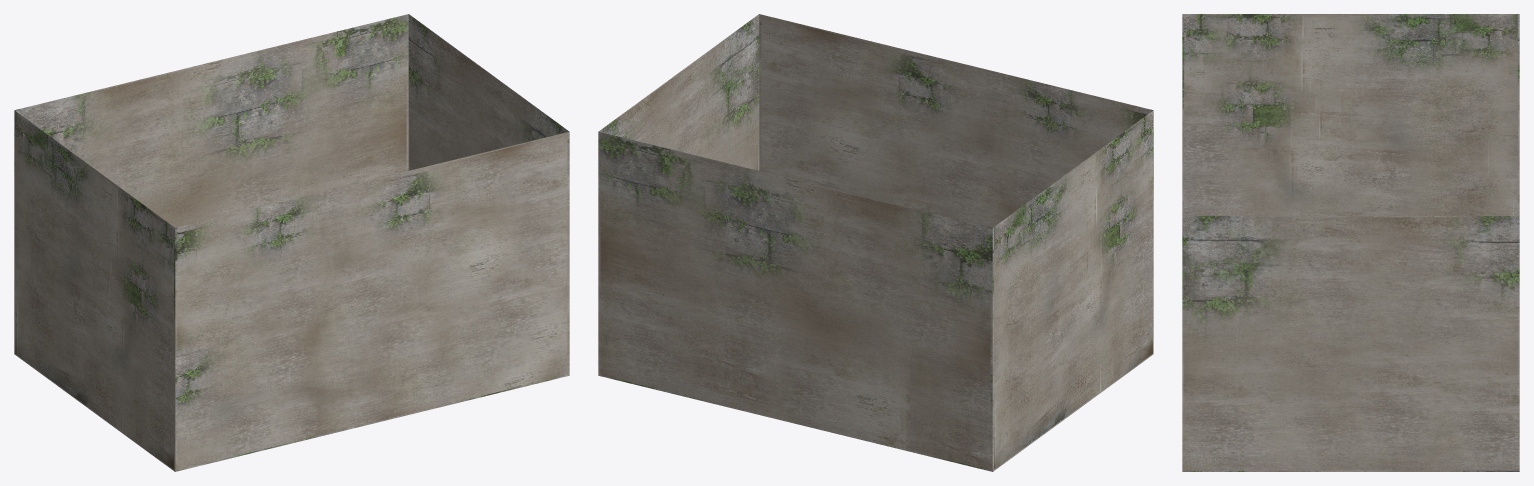
The model's file is oldHouse1.glb.
The picture shows the model from 3 angles, left to right: view 1: azimuth 30°, elevation 25°; view 2: azimuth 150°, elevation 25°; view 3: azimuth 270°, elevation 25°; orthographic projection. The views are drawn at different scales.
Visible parts, largest first — view 1: Cube; view 2: Cube; view 3: Cube.
Boxes of the visible parts, x1,y1,x2,y2 form: Cube: [14, 14, 569, 471]; Cube: [598, 14, 1153, 471]; Cube: [1182, 14, 1519, 471].
Size of the model in its own units: 4.94 by 2.92 by 3.49.
1 material, 1 textured.
